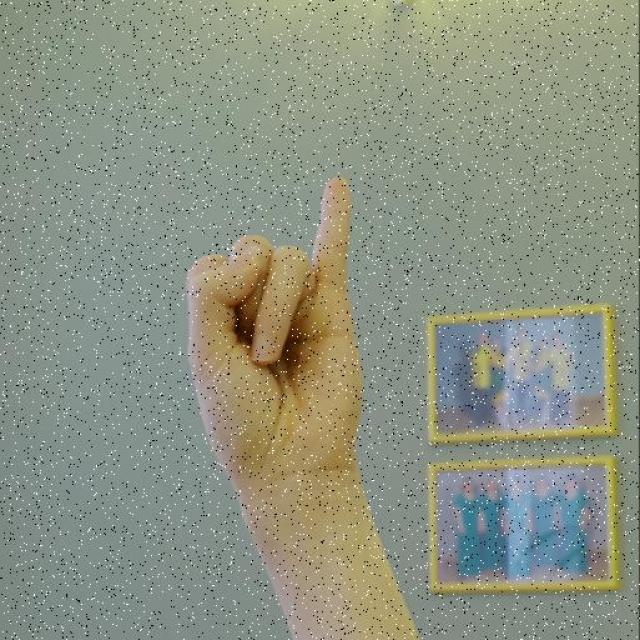I: (157, 135, 432, 640)
